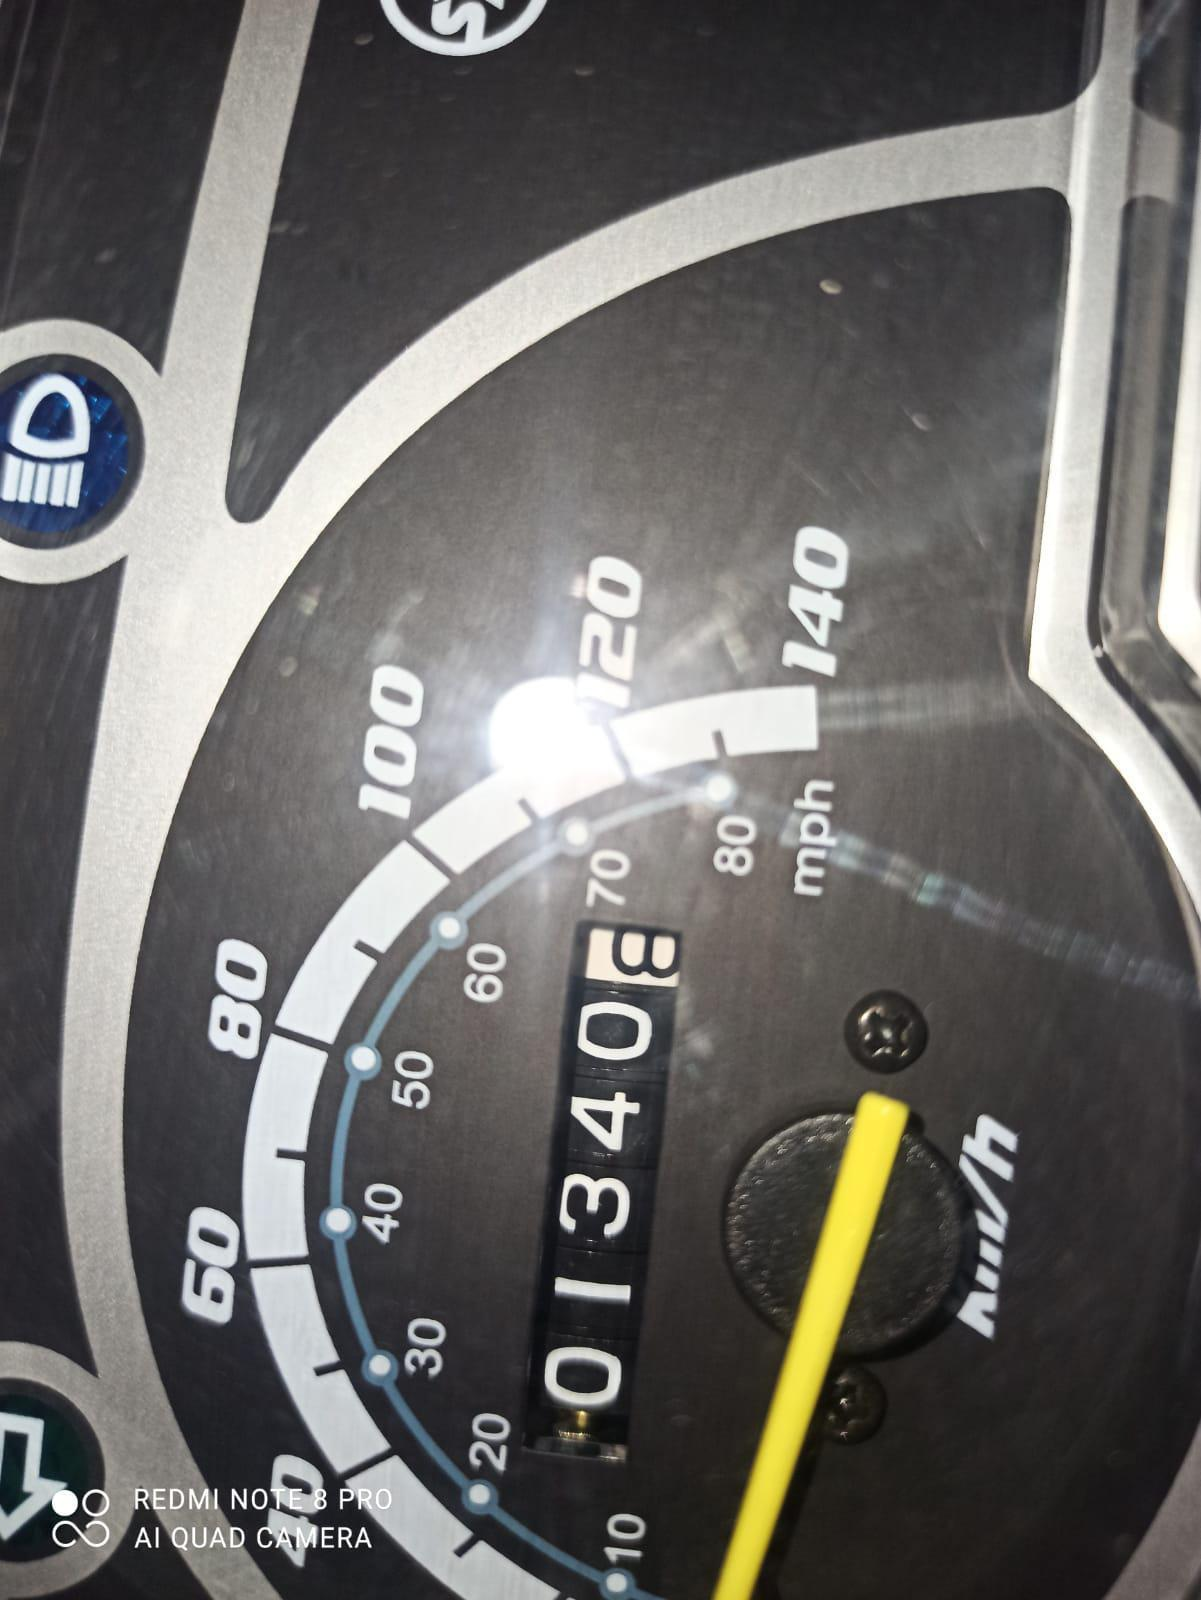0: (566, 996, 669, 1068), (536, 1340, 628, 1415)
1: (542, 1262, 652, 1322)
3: (544, 1168, 650, 1247)
4: (559, 1089, 653, 1152)
8: (597, 920, 683, 972)
odometer: (506, 905, 693, 1479)
